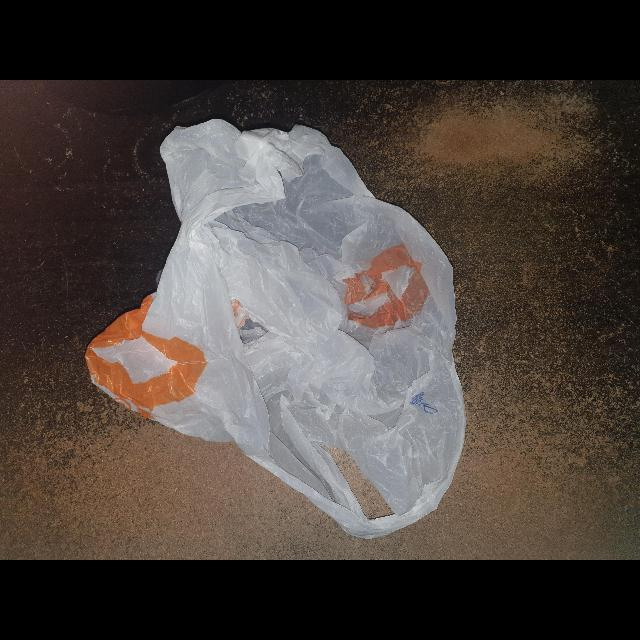sacola plástica: (86, 117, 468, 541)
